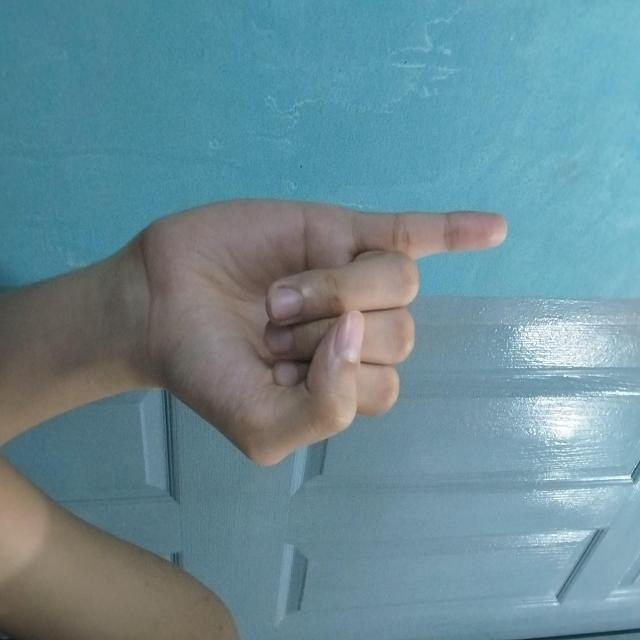I: (201, 130, 468, 492)
